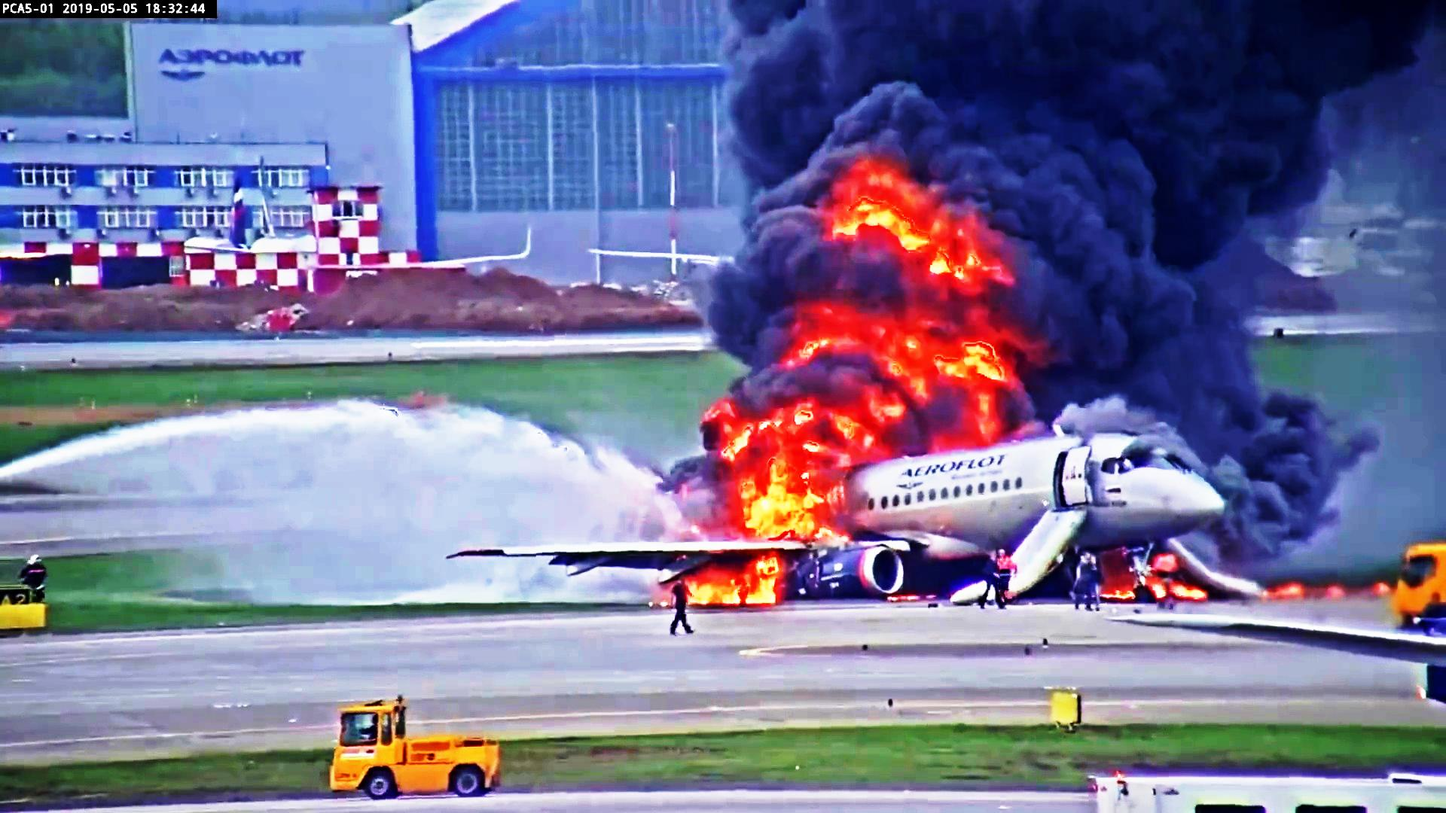fire: (738, 466, 829, 540), (697, 550, 778, 597)
smoke: (712, 0, 1309, 230), (1055, 0, 1278, 418), (1213, 390, 1330, 544)
